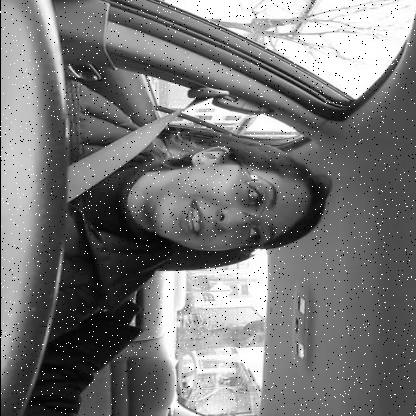seatbelt: (64, 83, 342, 286)
